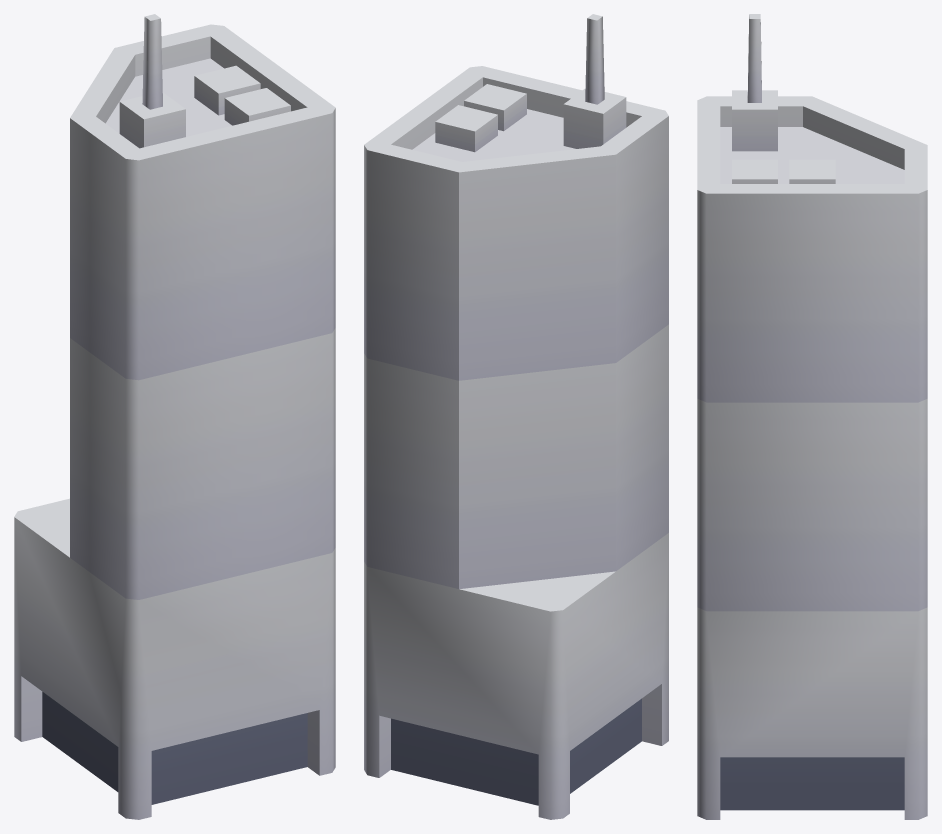
The model's file is bldj.glb.
3 views of the same model, side by side, from view 1: azimuth 30°, elevation 25°; view 2: azimuth 150°, elevation 25°; view 3: azimuth 270°, elevation 25° (orthographic). The views are drawn at different scales.
Visible parts, largest first — view 1: low-detail-building-j; view 2: low-detail-building-j; view 3: low-detail-building-j.
Boxes of the visible parts, <box> form: low-detail-building-j: <box>14,14,335,819</box>; low-detail-building-j: <box>364,14,668,819</box>; low-detail-building-j: <box>697,14,927,819</box>.
Size of the model in its own units: 0.4999 by 1.75 by 0.4999.
1 material, 1 textured.
